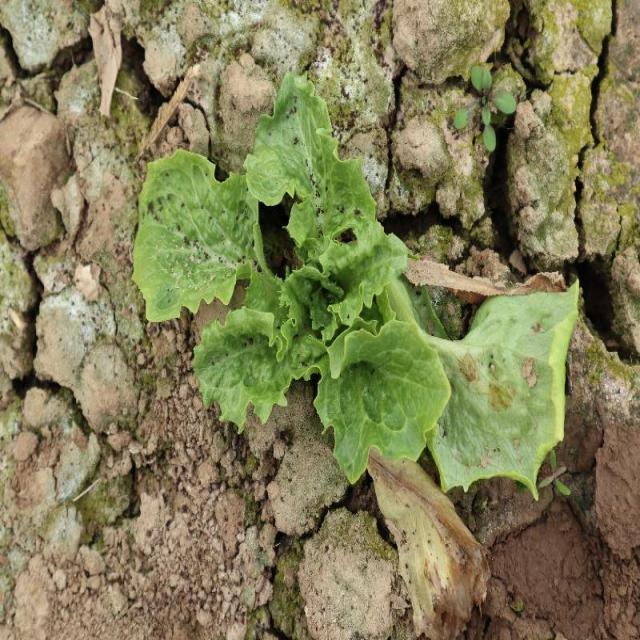crop: (130, 71, 451, 485)
